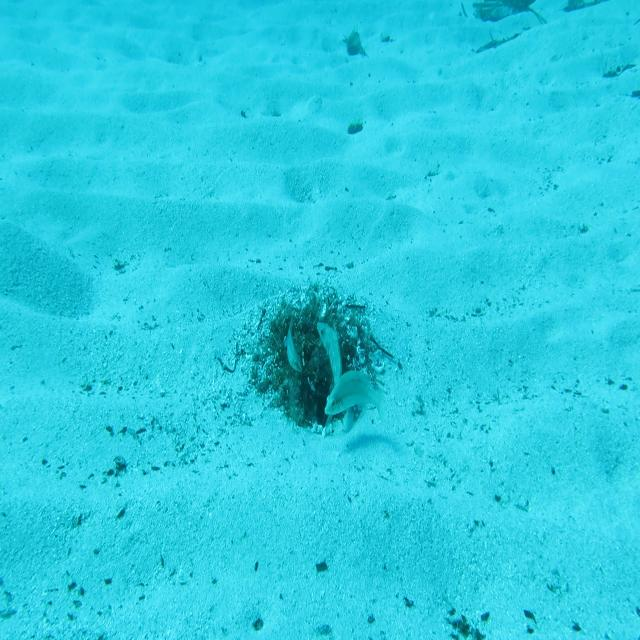DAN_CIRC: (316, 321, 344, 438)
female: (325, 366, 386, 433)
nest: (244, 272, 392, 440)
other_fish: (282, 312, 310, 375)
